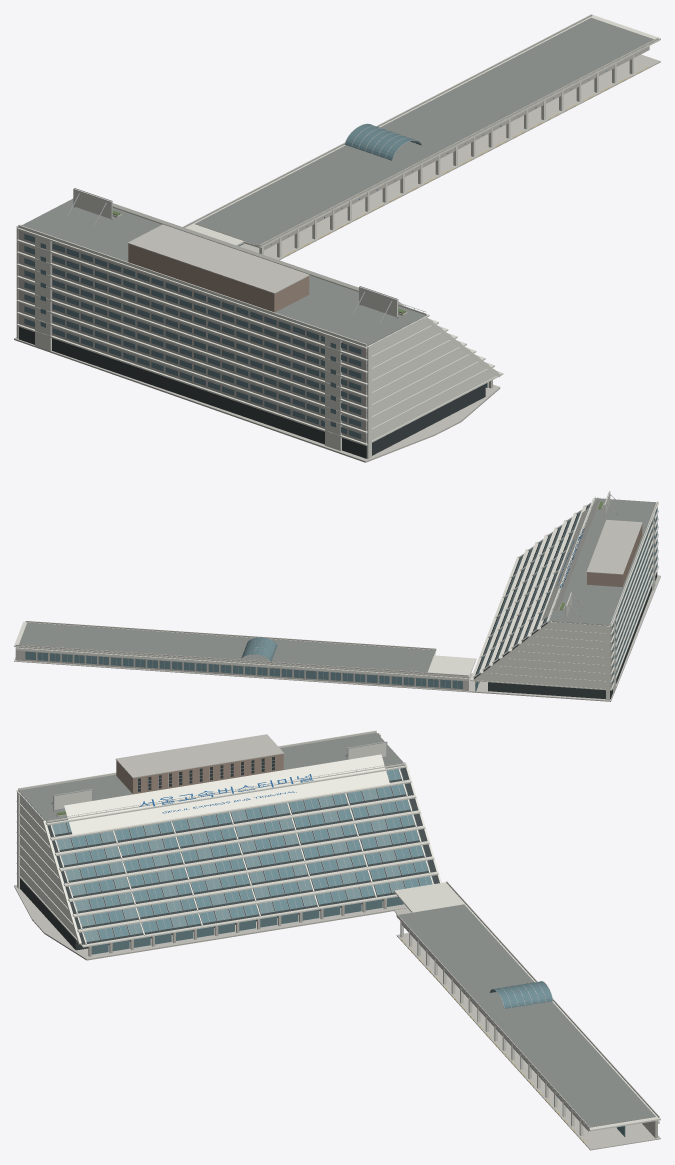
Rendered from bespoke-seoul-express-terminal.glb.
The picture shows the model from 3 angles, top to bottom: view 1: azimuth 30°, elevation 25°; view 2: azimuth 150°, elevation 25°; view 3: azimuth 270°, elevation 25°; orthographic projection. The views are drawn at different scales.
Visible parts, largest first — view 1: 04_Low_Yeongdong_Wing__Grey_flat_roof_surface, 02_Recessed_Facade__Observed_warm_grey_concrete, 02_Recessed_Facade__Observed_blue_grey_windows, 01_Main_Triangular_Section__Observed_off_white_slab_edges, 06_End_Walls_Stairs__Observed_off_white_slab_edges, 03_Rooftop_Sign_Terrace__Grey_flat_roof_surface, 04_Low_Yeongdong_Wing__Observed_warm_grey_concrete, 01_Main_Triangular_Section__Deep_recesses_not_solid_black, 03_Rooftop_Sign_Terrace__Observed_warm_grey_concrete, 03_Rooftop_Sign_Terrace__Observed_off_white_slab_edges, 03_Rooftop_Sign_Terrace__Observed_warm_rooftop_service_block, 01_Main_Triangular_Section__Observed_warm_grey_concrete (+4 smaller); view 2: 04_Low_Yeongdong_Wing__Grey_flat_roof_surface, 01_Main_Triangular_Section__Observed_off_white_slab_edges, 06_End_Walls_Stairs__Observed_off_white_slab_edges, 04_Low_Yeongdong_Wing__Observed_warm_grey_concrete, 03_Rooftop_Sign_Terrace__Grey_flat_roof_surface, 04_Low_Yeongdong_Wing__Observed_blue_grey_windows, 04_Low_Yeongdong_Wing__Observed_off_white_slab_edges, 02_Recessed_Facade__Observed_blue_grey_windows, 01_Main_Triangular_Section__Deep_recesses_not_solid_black, 03_Rooftop_Sign_Terrace__Observed_warm_grey_concrete, 03_Rooftop_Sign_Terrace__Observed_off_white_slab_edges, 02_Recessed_Facade__Silver_window_mullions (+6 smaller); view 3: 02_Recessed_Facade__Observed_blue_grey_windows, 04_Low_Yeongdong_Wing__Grey_flat_roof_surface, 01_Main_Triangular_Section__Observed_off_white_slab_edges, 03_Rooftop_Sign_Terrace__Observed_off_white_slab_edges, 01_Main_Triangular_Section__Deep_recesses_not_solid_black, 02_Recessed_Facade__Muted_window_alternate, 02_Recessed_Facade__Silver_window_mullions, 04_Low_Yeongdong_Wing__Observed_warm_grey_concrete, 03_Rooftop_Sign_Terrace__Grey_flat_roof_surface, 06_End_Walls_Stairs__Observed_off_white_slab_edges, 03_Rooftop_Sign_Terrace__Observed_warm_grey_concrete, 01_Main_Triangular_Section__Observed_warm_grey_concrete (+9 smaller).
Part boxes in pixels (x1,y1,x2,y2): 04_Low_Yeongdong_Wing__Grey_flat_roof_surface: (195, 17, 653, 245); 02_Recessed_Facade__Observed_warm_grey_concrete: (18, 230, 366, 443); 02_Recessed_Facade__Observed_blue_grey_windows: (24, 233, 487, 439); 01_Main_Triangular_Section__Observed_off_white_slab_edges: (16, 227, 503, 445); 06_End_Walls_Stairs__Observed_off_white_slab_edges: (16, 197, 500, 458); 03_Rooftop_Sign_Terrace__Grey_flat_roof_surface: (21, 199, 426, 346); 04_Low_Yeongdong_Wing__Observed_warm_grey_concrete: (183, 14, 660, 260); 01_Main_Triangular_Section__Deep_recesses_not_solid_black: (18, 327, 485, 458); 03_Rooftop_Sign_Terrace__Observed_warm_grey_concrete: (112, 214, 407, 315); 03_Rooftop_Sign_Terrace__Observed_off_white_slab_edges: (18, 188, 426, 346); 03_Rooftop_Sign_Terrace__Observed_warm_rooftop_service_block: (128, 244, 309, 312); 01_Main_Triangular_Section__Observed_warm_grey_concrete: (14, 337, 500, 462); 04_Low_Yeongdong_Wing__Grey_flat_roof_surface: (19, 622, 435, 672); 01_Main_Triangular_Section__Observed_off_white_slab_edges: (470, 498, 658, 690); 06_End_Walls_Stairs__Observed_off_white_slab_edges: (473, 497, 656, 700); 04_Low_Yeongdong_Wing__Observed_warm_grey_concrete: (14, 621, 472, 692); 03_Rooftop_Sign_Terrace__Grey_flat_roof_surface: (548, 498, 656, 625); 04_Low_Yeongdong_Wing__Observed_blue_grey_windows: (25, 637, 462, 688); 04_Low_Yeongdong_Wing__Observed_off_white_slab_edges: (14, 621, 476, 680); 02_Recessed_Facade__Observed_blue_grey_windows: (475, 507, 657, 692); 01_Main_Triangular_Section__Deep_recesses_not_solid_black: (474, 506, 657, 699); 03_Rooftop_Sign_Terrace__Observed_warm_grey_concrete: (559, 502, 642, 610); 03_Rooftop_Sign_Terrace__Observed_off_white_slab_edges: (541, 491, 657, 625); 02_Recessed_Facade__Silver_window_mullions: (475, 504, 590, 676); 02_Recessed_Facade__Observed_blue_grey_windows: (67, 769, 432, 954); 04_Low_Yeongdong_Wing__Grey_flat_roof_surface: (398, 904, 655, 1127); 01_Main_Triangular_Section__Observed_off_white_slab_edges: (16, 733, 438, 947); 03_Rooftop_Sign_Terrace__Observed_off_white_slab_edges: (18, 730, 405, 834); 01_Main_Triangular_Section__Deep_recesses_not_solid_black: (20, 767, 439, 950); 02_Recessed_Facade__Muted_window_alternate: (52, 788, 404, 941); 02_Recessed_Facade__Silver_window_mullions: (52, 769, 433, 941); 04_Low_Yeongdong_Wing__Observed_warm_grey_concrete: (394, 881, 660, 1150); 03_Rooftop_Sign_Terrace__Grey_flat_roof_surface: (18, 732, 405, 822); 06_End_Walls_Stairs__Observed_off_white_slab_edges: (17, 733, 441, 944); 03_Rooftop_Sign_Terrace__Observed_warm_grey_concrete: (56, 734, 284, 816); 01_Main_Triangular_Section__Observed_warm_grey_concrete: (14, 885, 407, 960).
Bounding box in the file's own units: 307 × 51 × 261.
